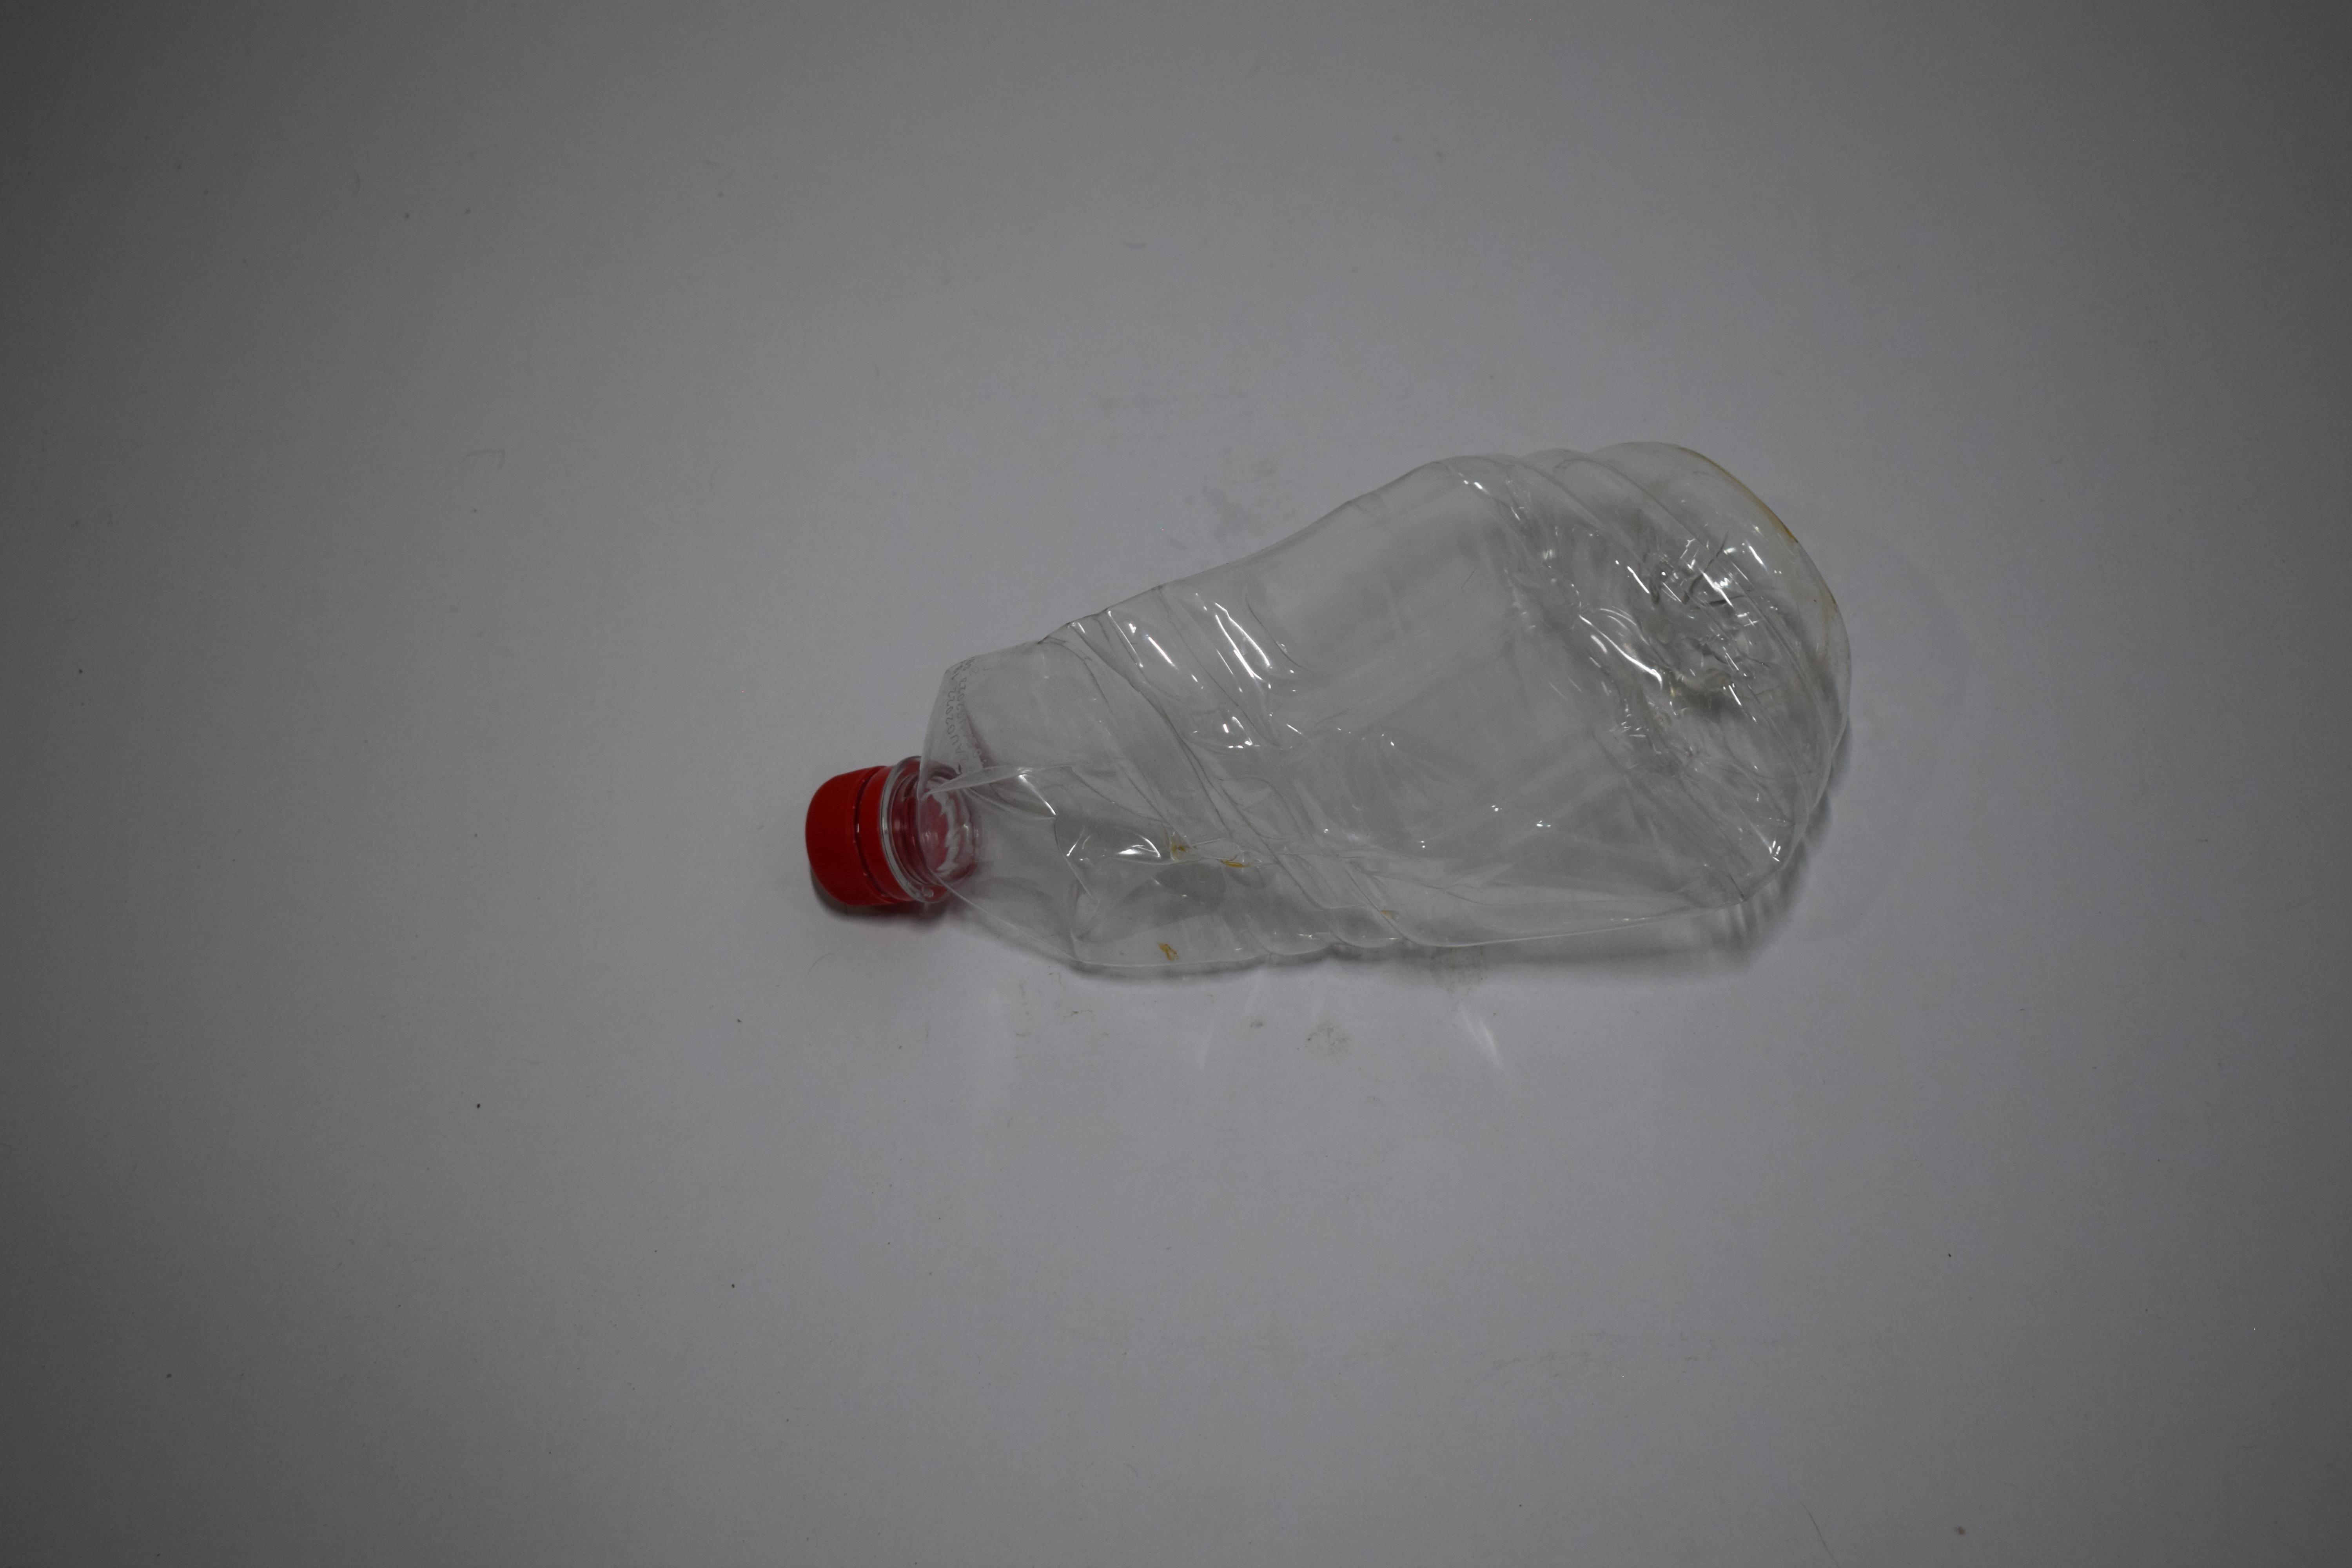bottle: (0, 392, 616, 873)
